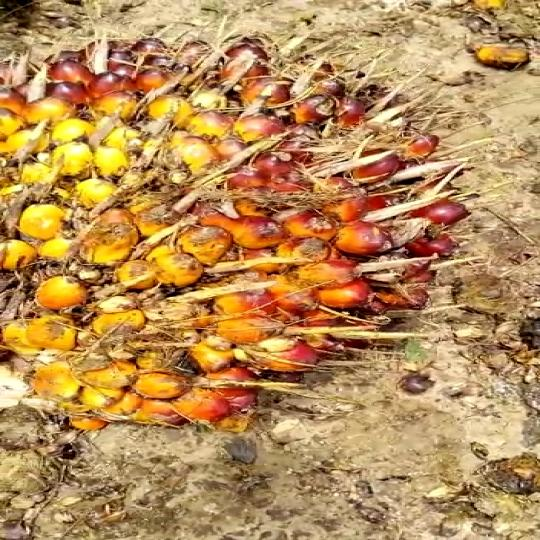masak: (0, 28, 459, 439)
